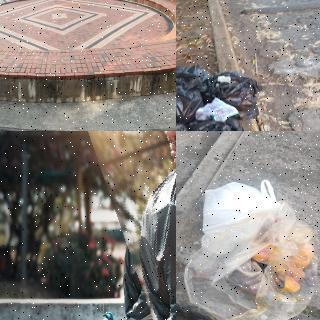Garbage: (179, 178, 318, 320), (101, 131, 176, 320), (210, 72, 262, 121), (176, 81, 204, 129)
